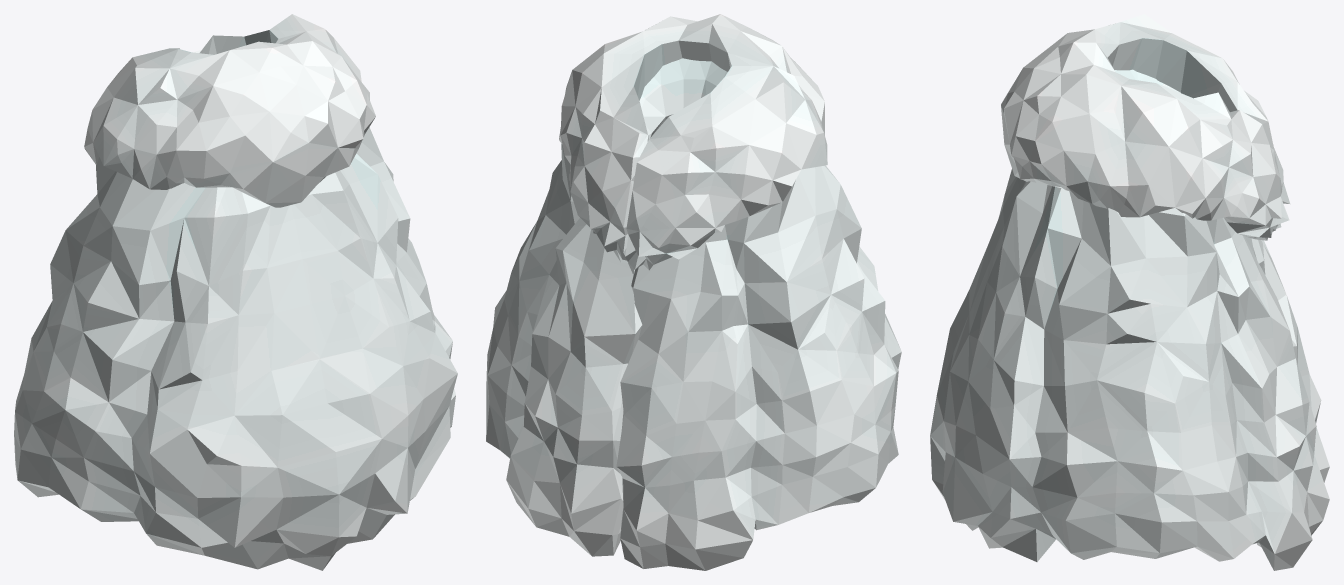
Rendered from CharSkyKid_Wing_YetiFur.glb.
3 views of the same model, side by side, from view 1: azimuth 30°, elevation 25°; view 2: azimuth 150°, elevation 25°; view 3: azimuth 270°, elevation 25° (orthographic). The views are drawn at different scales.
Parts seen in each view (by area): view 1: CharSkyKid_Wing_YetiFur; view 2: CharSkyKid_Wing_YetiFur; view 3: CharSkyKid_Wing_YetiFur.
Boxes of the visible parts, x1=… form: CharSkyKid_Wing_YetiFur: x1=14, y1=14, x2=457, y2=570; CharSkyKid_Wing_YetiFur: x1=486, y1=14, x2=901, y2=570; CharSkyKid_Wing_YetiFur: x1=930, y1=14, x2=1329, y2=570.
Bounding box in the file's own units: 7.41 × 8.53 × 6.22.
Materials: 1 (1 with a texture image).
